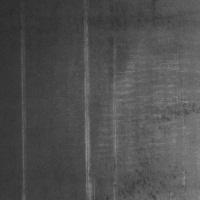scratches: (81, 15, 97, 198), (19, 33, 28, 199)
